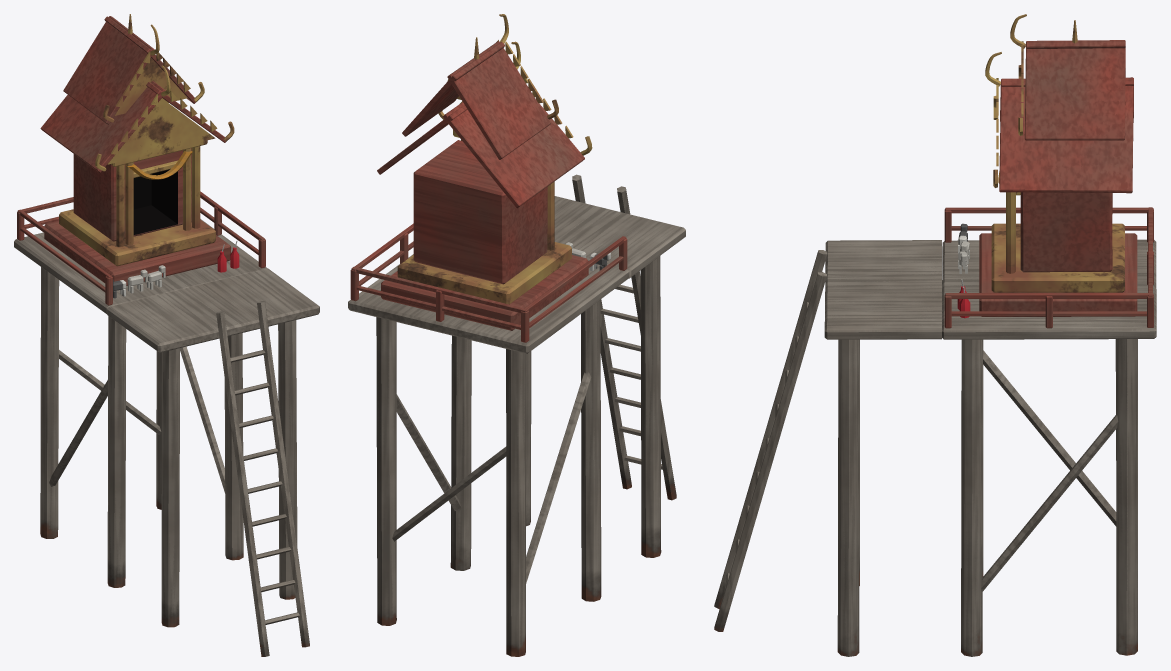
Rendered from SpiritHouseOnStilts_v2.fbx.
3 renders of one model, left to right at view 1: azimuth 30°, elevation 25°; view 2: azimuth 150°, elevation 25°; view 3: azimuth 270°, elevation 25°, orthographic. The views are drawn at different scales.
Visible parts, largest first — view 1: SpiritHouseOnStilts; view 2: SpiritHouseOnStilts; view 3: SpiritHouseOnStilts.
Boxes of the visible parts, x1,y1,x2,y2 form: SpiritHouseOnStilts: [14, 14, 319, 656]; SpiritHouseOnStilts: [348, 14, 685, 656]; SpiritHouseOnStilts: [714, 14, 1156, 656].
Size of the model in its own units: 101 by 314 by 208.
1 material, 1 textured.
